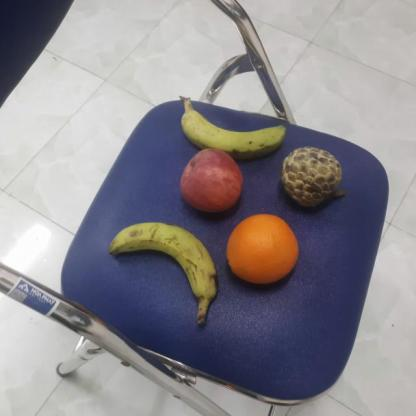annona: (277, 147, 346, 211)
apple: (174, 147, 245, 217)
banana: (107, 219, 221, 302), (176, 99, 286, 158)
orange: (226, 212, 299, 286)
